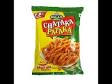plastic: (30, 5, 83, 75)
